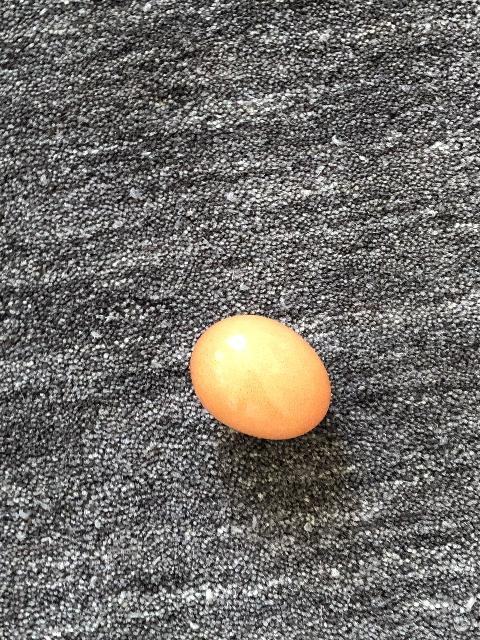Sano: (189, 313, 331, 440)
